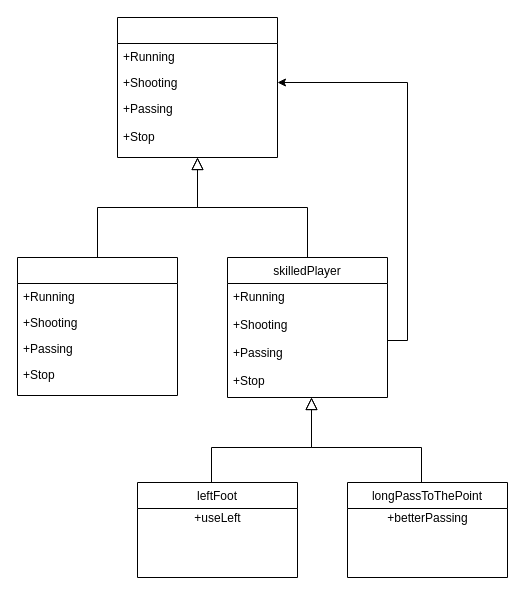
Image size: 525x595. Some labels were removed from this diagram. The shapes that lost their labels are listed below. From the top down, each one's box as (x1, y1, x2, y2) in pixels, then its label:
(116, 16, 278, 158): player
(16, 256, 178, 396): basicPlayer
